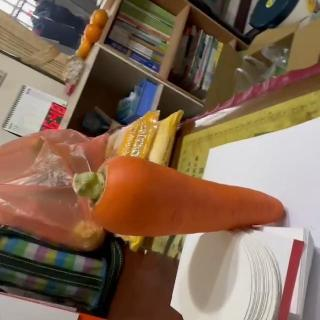carrot: (75, 154, 287, 238)
